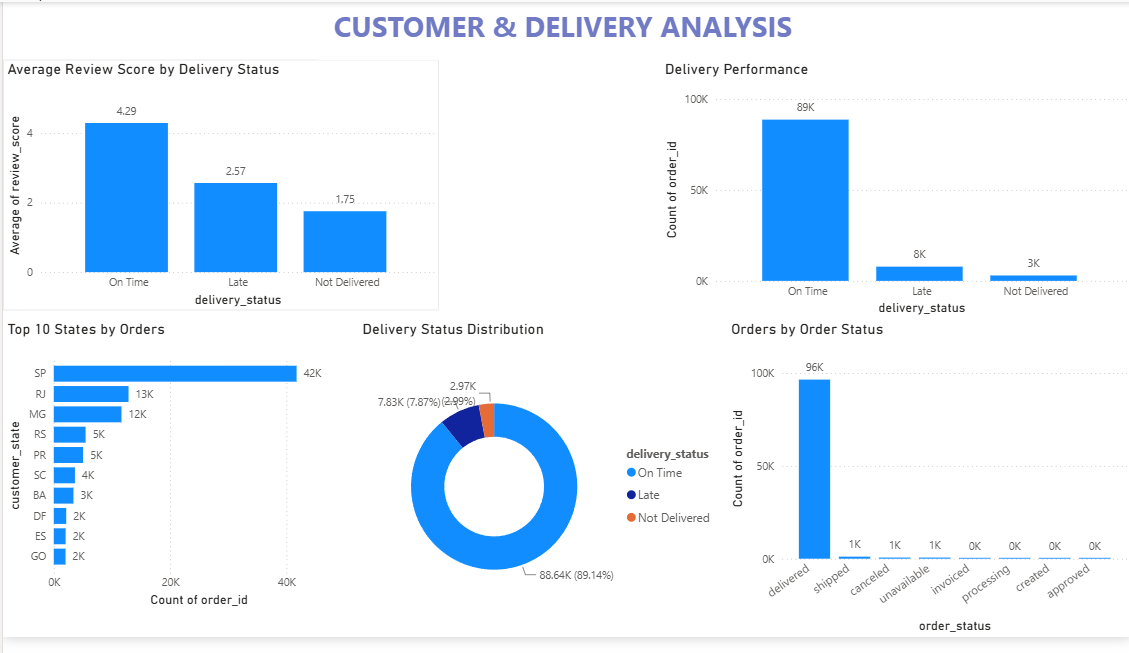

This screenshot's page, from the dashboard's own definition file:
{"tool":"powerbi","page":{"name":"Customer & Delivery Analysis","canvas":[1280,720],"ordinal":1},"visuals":[{"type":"clusteredColumnChart","title":"Orders by Order Status","fields":{"Category":["olist_master_orders_powerbi.order_status"],"Y":["CountNonNull(olist_master_orders_powerbi.order_id)"]},"box":[820.9,360.1,459.4,360.1],"z":0},{"type":"clusteredColumnChart","title":"Average Review Score by Delivery Status","fields":{"Category":["olist_master_orders_powerbi.delivery_status"],"Y":["Avg(olist_master_orders_powerbi.review_score)"]},"box":[0,65.2,494.8,285],"z":1000},{"type":"clusteredColumnChart","title":"Delivery Performance","fields":{"Category":["olist_master_orders_powerbi.delivery_status"],"Y":["CountNonNull(olist_master_orders_powerbi.order_id)"]},"box":[745.8,65.2,534.5,294.9],"z":2000},{"type":"clusteredBarChart","title":"Top 10 States by Orders","fields":{"Category":["olist_master_orders_powerbi.customer_state"],"Y":["CountNonNull(olist_master_orders_powerbi.order_id)"]},"box":[0,360.1,402.7,330.4],"z":3000},{"type":"donutChart","title":"Delivery Status Distribution","fields":{"Category":["olist_master_orders_powerbi.delivery_status"],"Y":["CountNonNull(olist_master_orders_powerbi.order_id)"]},"box":[402.7,360.1,418.3,348.8],"z":4000},{"type":"textbox","box":[355.9,0,558.6,65.2],"z":4001}]}

Visuals, with their boxes in screenshot pixels (x1, y1, x2, y2), scaled from the page's 1280x720 canvas onto the 1129x653 screenshot:
"Orders by Order Status" clusteredColumnChart: <box>724,327,1128,652</box>
"Average Review Score by Delivery Status" clusteredColumnChart: <box>0,59,436,318</box>
"Delivery Performance" clusteredColumnChart: <box>658,59,1128,327</box>
"Top 10 States by Orders" clusteredBarChart: <box>0,327,355,626</box>
"Delivery Status Distribution" donutChart: <box>355,327,724,643</box>
textbox: <box>314,0,807,59</box>
